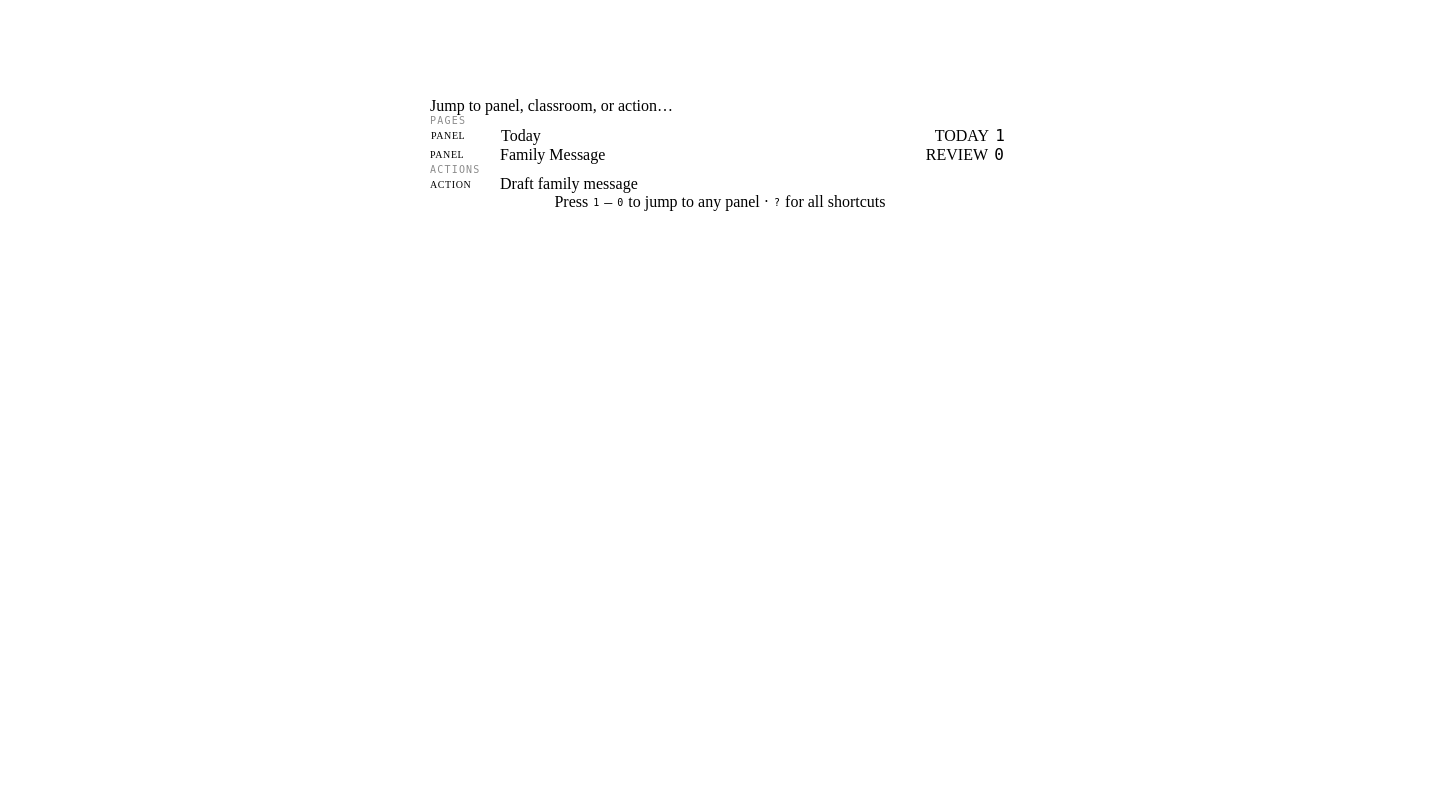
Test: CommandPalette › filters by substring match across label + keywords
Type "fam" into the dropdown.
click(720, 106); type("fam")  # box [430, 97, 1010, 115]
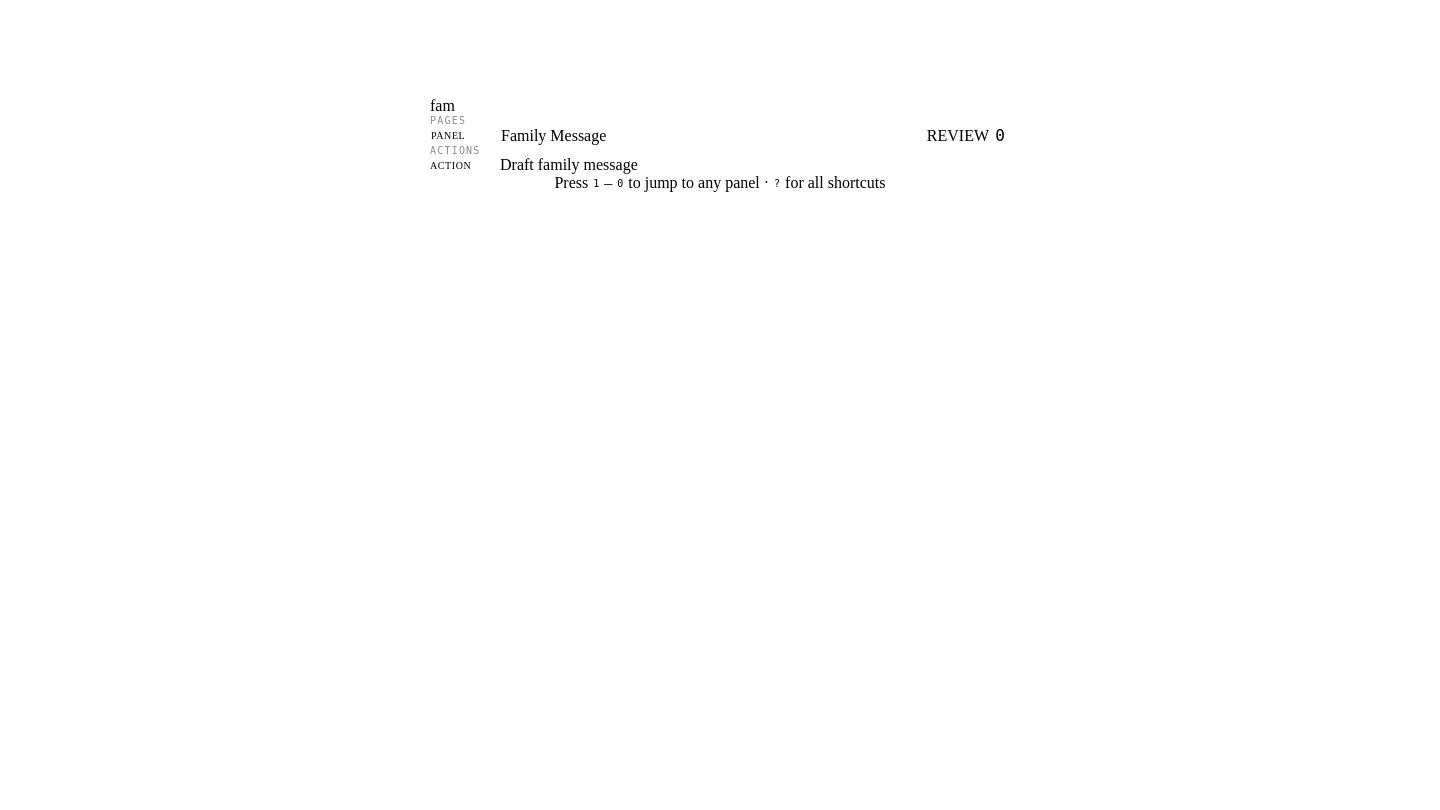
Expected: the text "Family Message" is shown, [501, 127, 606, 144]
Expected: the option "Today" is gone
